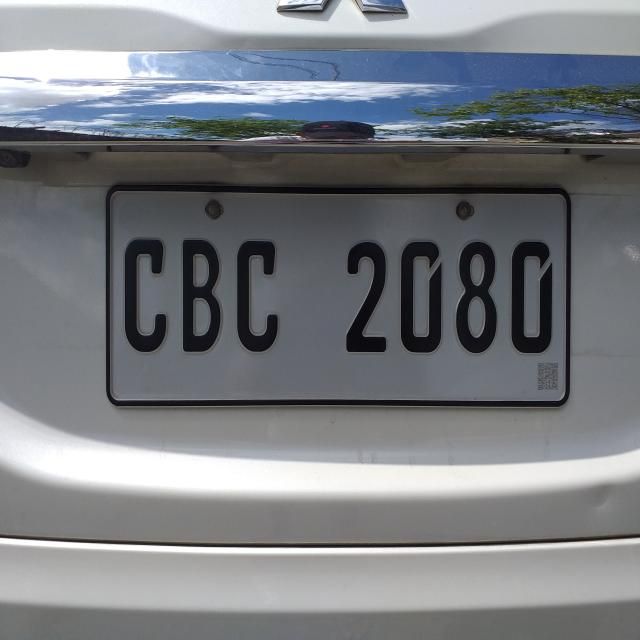license-plate: (106, 185, 569, 409)
